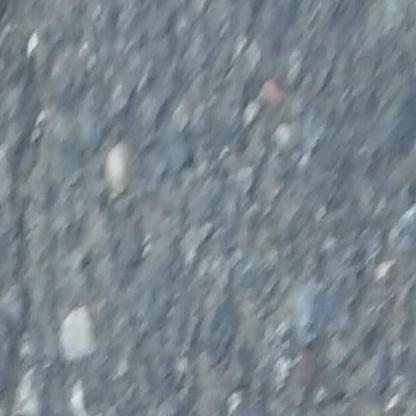Cracks: (0, 0, 48, 401)
